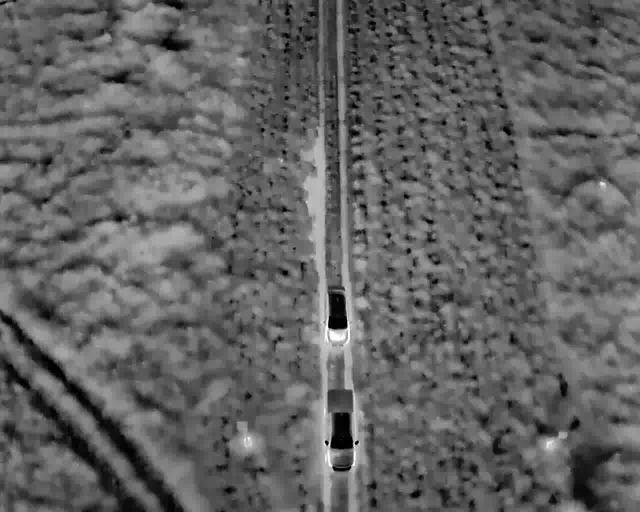car: (322, 386, 362, 474), (321, 281, 354, 348)
